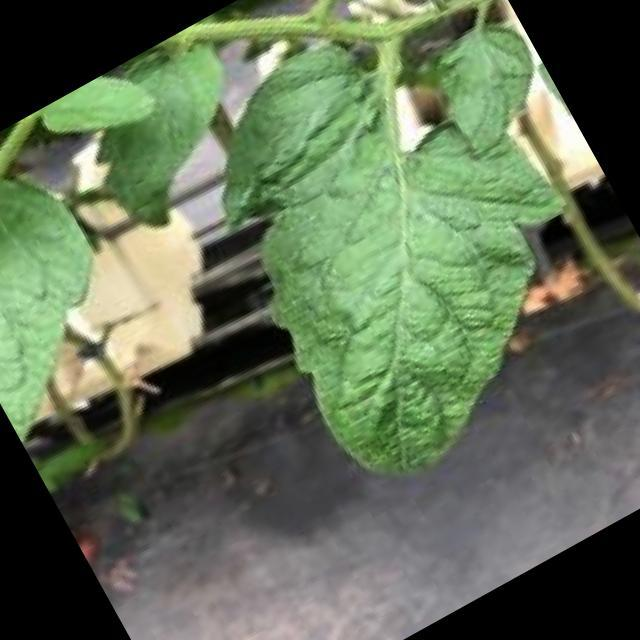Tomato healthy leaf: (223, 10, 571, 478), (0, 171, 96, 444), (38, 76, 159, 138)
